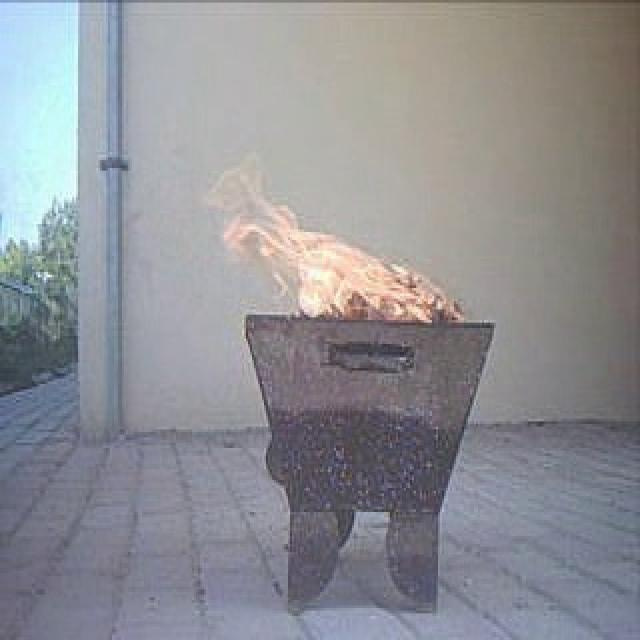Fire: (224, 156, 462, 324)
